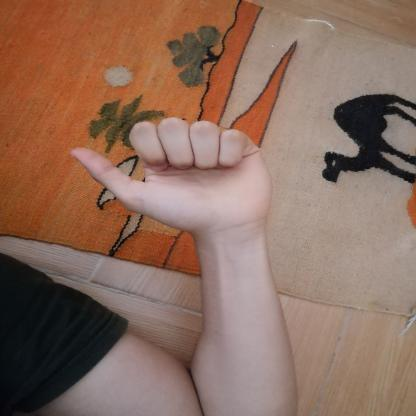DAD: (56, 109, 284, 244)
